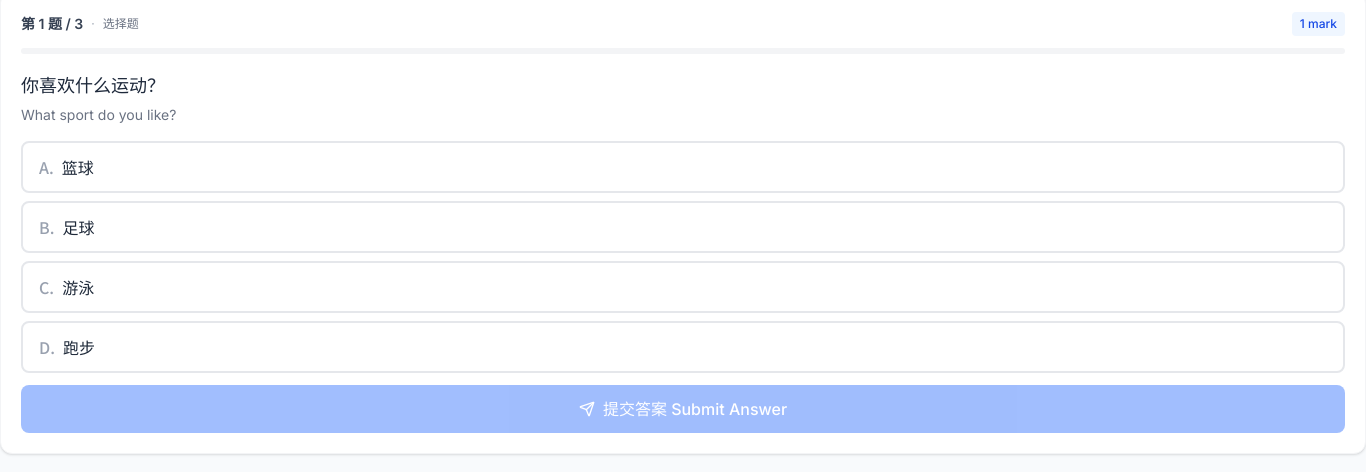
Test: QuestionCard — independent per-question state › shows confirmation banner and Next button after submission
The width and height of the screenshot is (1366, 472).
Click the radio button labelled "A.篮球".
click(78, 167)  # box [21,141,1345,193]
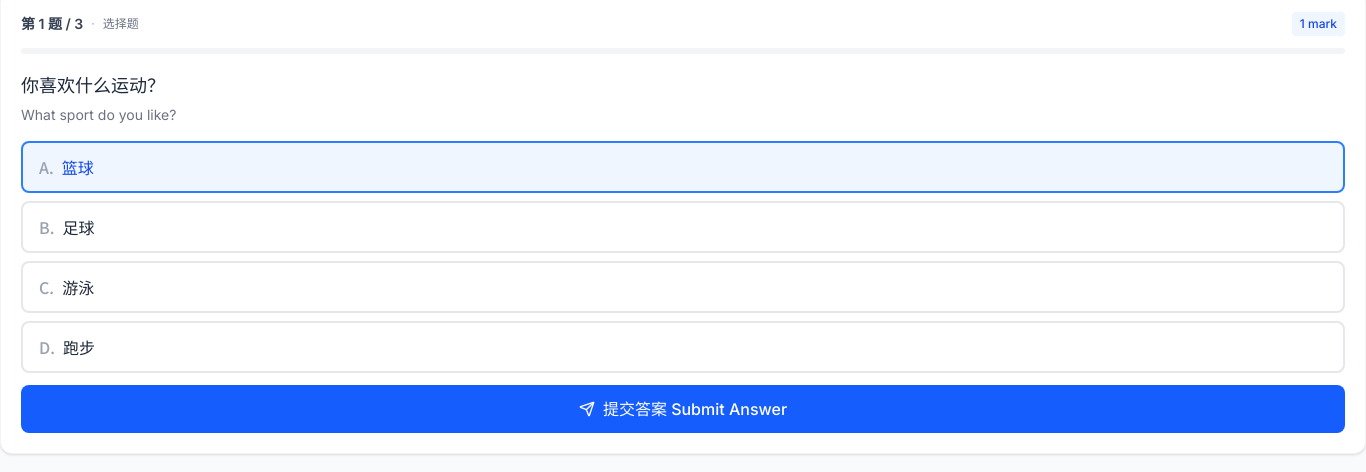
Click the button "提交答案 Submit Answer".
click(683, 409)  # box [21,385,1345,433]
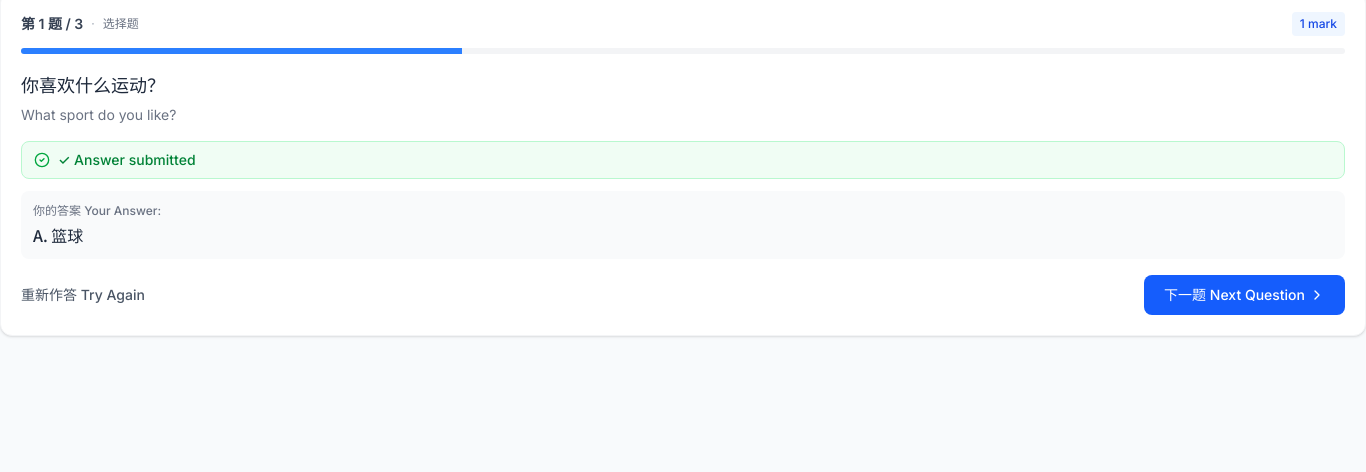
Result: the text "✓ Answer submitted" is shown at [58,150,196,170]
Result: the button "下一题 Next Question" is shown at [1144,275,1345,315]
Result: the button "重新作答 Try Again" is shown at [21,285,145,305]
